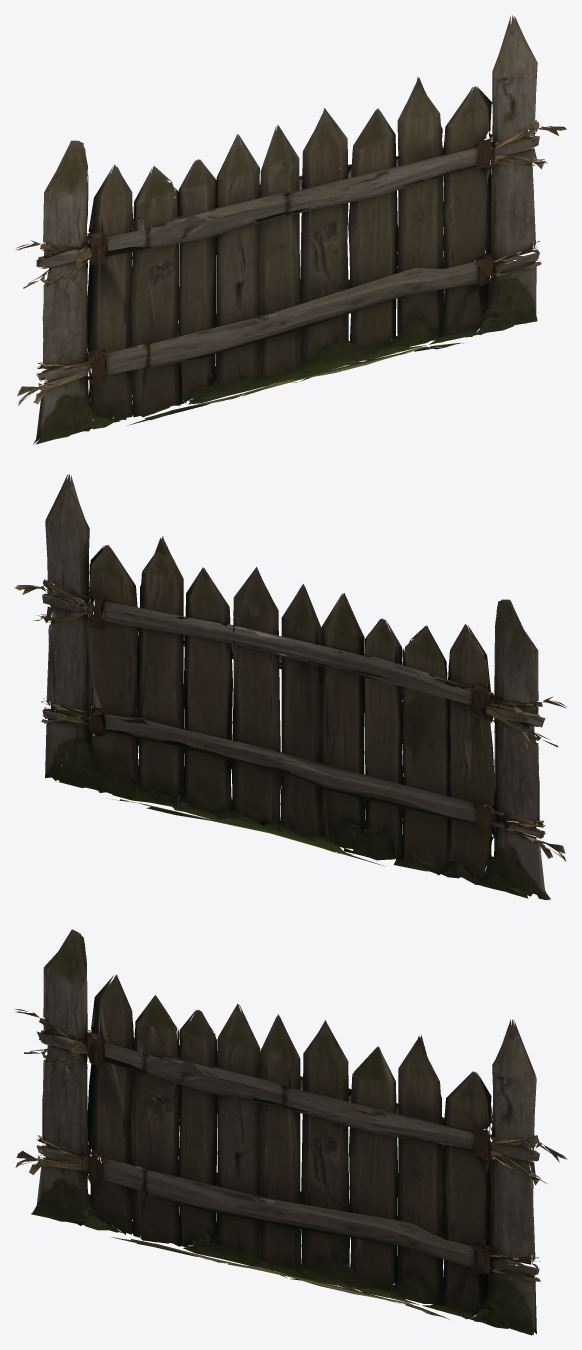
The model's file is goblin_palisade_a.glb.
3 views of the same model, one above another, from view 1: azimuth 30°, elevation 25°; view 2: azimuth 150°, elevation 25°; view 3: azimuth 330°, elevation 25° (orthographic).
Parts seen in each view (by area): view 1: goblin_palisade_a; view 2: goblin_palisade_a; view 3: goblin_palisade_a.
Boxes of the visible parts, x1,y1,x2,y2 form: goblin_palisade_a: (16,15,566,444); goblin_palisade_a: (14,474,566,900); goblin_palisade_a: (14,929,567,1335).
Size of the model in its own units: 5.18 by 2.79 by 0.2588.
Materials: 1 (1 with a texture image).
